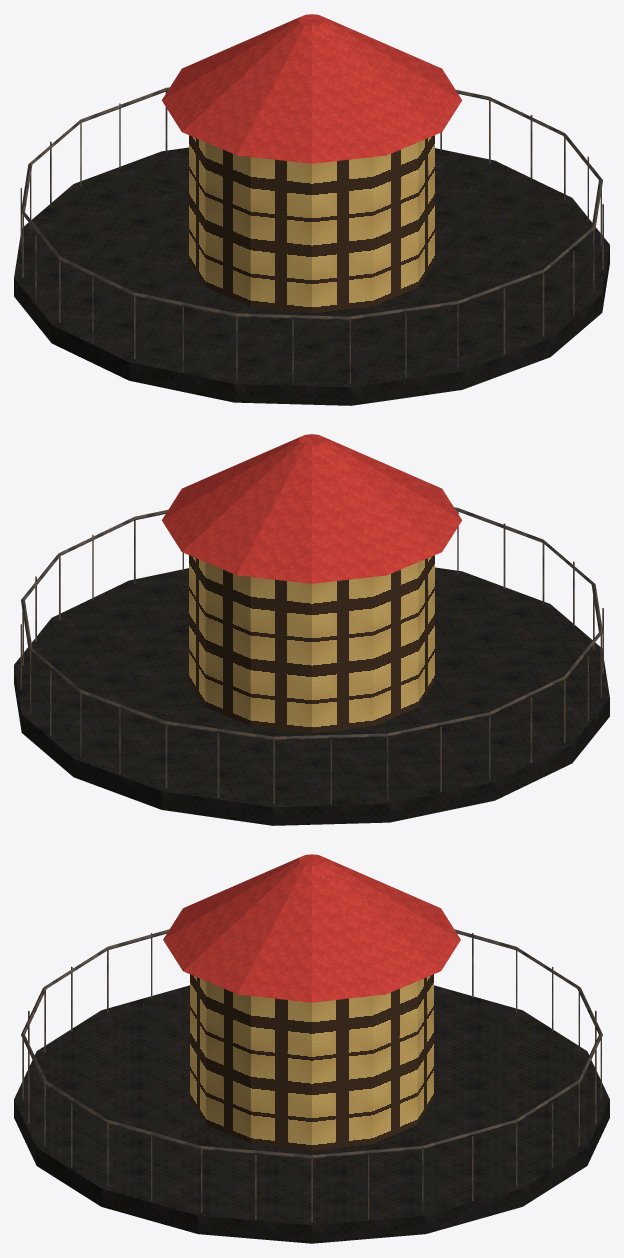
The model's file is faro_galeria.obj.
3 views of the same model, one above another, from view 1: azimuth 30°, elevation 25°; view 2: azimuth 150°, elevation 25°; view 3: azimuth 270°, elevation 25° (orthographic).
Visible parts, largest first — view 1: faro_galeria; view 2: faro_galeria; view 3: faro_galeria.
Part boxes in pixels (x1,y1,x2,y2): faro_galeria: [14, 14, 609, 405]; faro_galeria: [14, 434, 609, 825]; faro_galeria: [14, 854, 609, 1243].
Size of the model in its own units: 8.8 by 4.2 by 8.8.
Materials: 4 (4 with a texture image).
